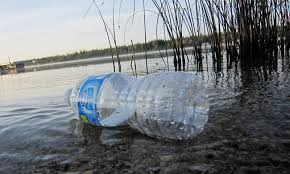plastic: (56, 68, 219, 144)
